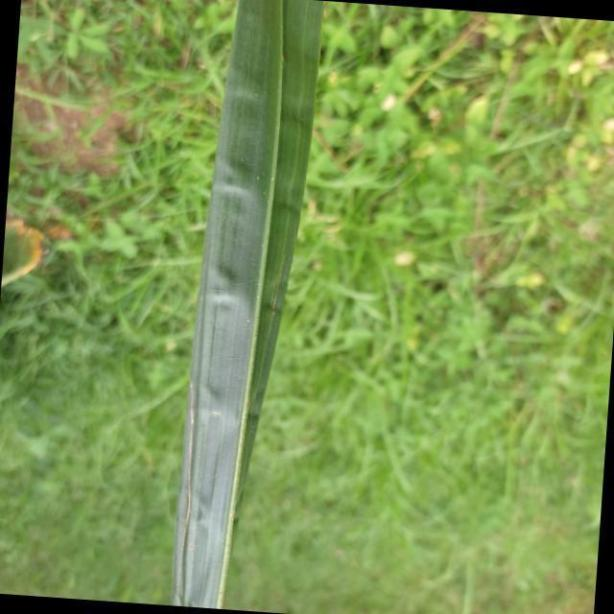Boron: (171, 0, 328, 614)
